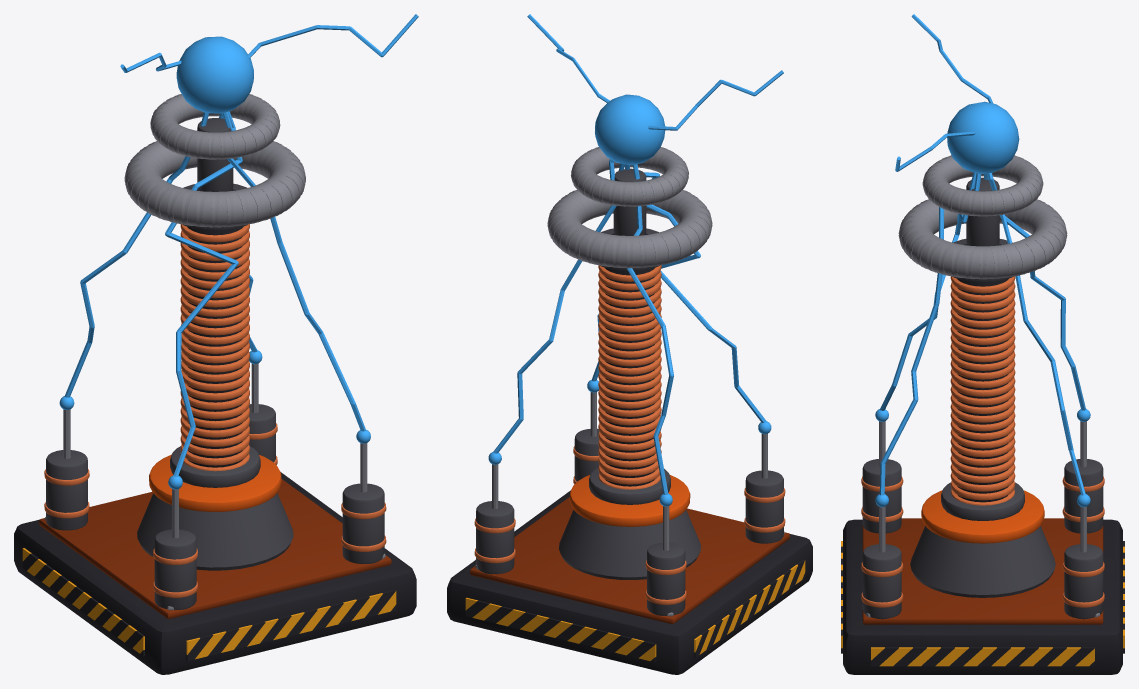
Rendered from TeslaCoil.obj.
3 renders of one model, left to right at view 1: azimuth 30°, elevation 25°; view 2: azimuth 150°, elevation 25°; view 3: azimuth 270°, elevation 25°, orthographic. The views are drawn at different scales.
Parts seen in each view (by area): view 1: TeslaCoil; view 2: TeslaCoil; view 3: TeslaCoil.
Part boxes in pixels (x1,y1,x2,y2): TeslaCoil: (14,14,418,674); TeslaCoil: (447,14,812,674); TeslaCoil: (841,14,1124,674).
Size of the model in its own units: 1.11 by 2.16 by 1.01.
